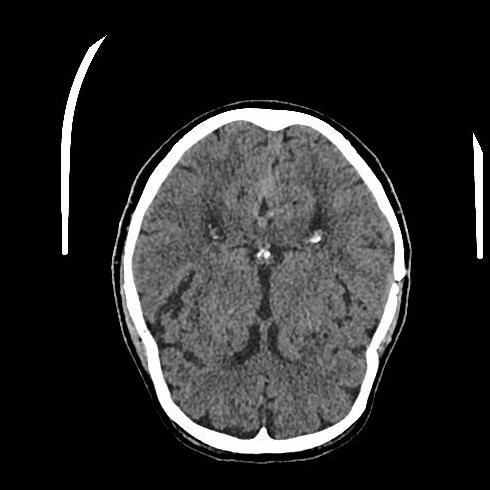Normal_Brain: (107, 97, 420, 468)
